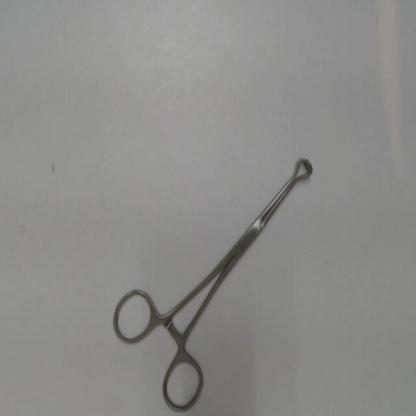Babcock Tissue Forceps: (109, 154, 317, 414)
